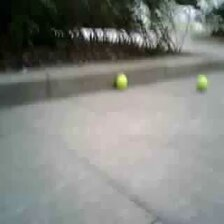tennis: (196, 76, 210, 92), (115, 73, 129, 88)
